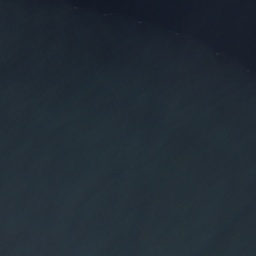Marine Debris: (216, 52, 223, 56)
